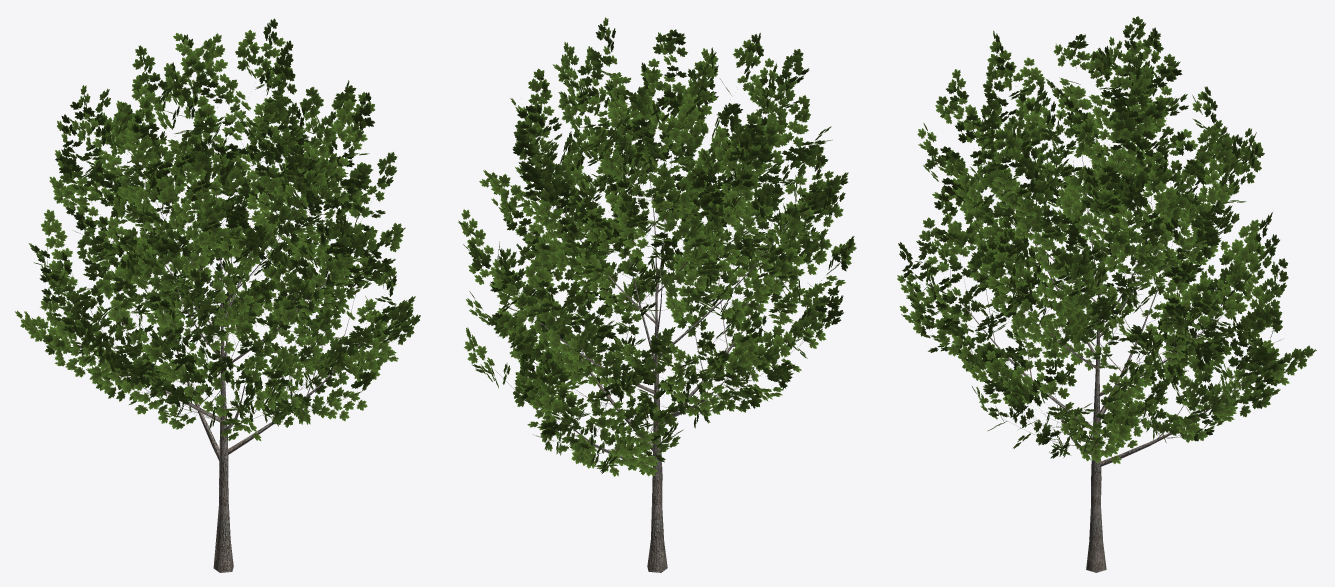
File: maple_tree.glb
The picture shows the model from 3 angles, left to right: view 1: azimuth 30°, elevation 25°; view 2: azimuth 150°, elevation 25°; view 3: azimuth 270°, elevation 25°; orthographic projection.
Parts seen in each view (by area): view 1: SugarMapleTree; view 2: SugarMapleTree; view 3: SugarMapleTree.
Part boxes in pixels (<box>): SugarMapleTree: <box>15,18,420,572</box>; SugarMapleTree: <box>458,17,856,572</box>; SugarMapleTree: <box>897,16,1316,572</box>.
Bounding box in the file's own units: 5 × 6.8 × 5.06.
2 materials, 2 textured.
